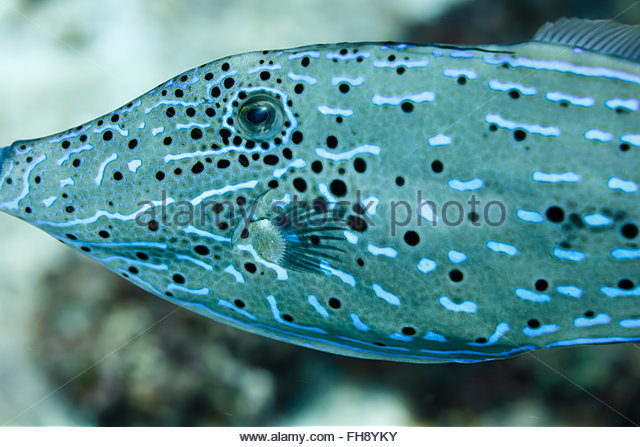Aluterus_scriptus: (1, 23, 640, 374)
